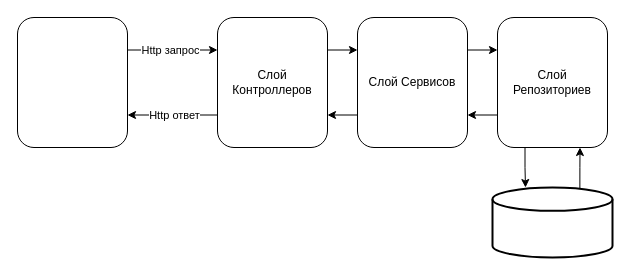
The diagram is 631 pixels wide and 276 high, and some of its shapes have lost their labels. Here are the shapes that lost their labels. From the top down, the centre of each, then its label:
At pixel 72 82: "Клиент".
At pixel 552 222: "База данных".
